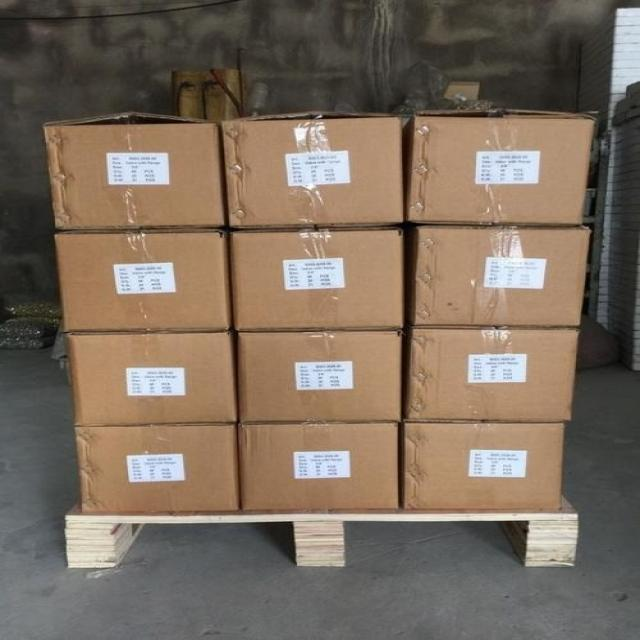box: (404, 107, 598, 225), (223, 110, 404, 228), (45, 111, 224, 228), (55, 228, 232, 332), (408, 225, 590, 326), (232, 228, 403, 331), (404, 327, 581, 421), (68, 332, 237, 426), (239, 331, 403, 422), (74, 424, 239, 514), (403, 421, 566, 511), (238, 423, 399, 512)
